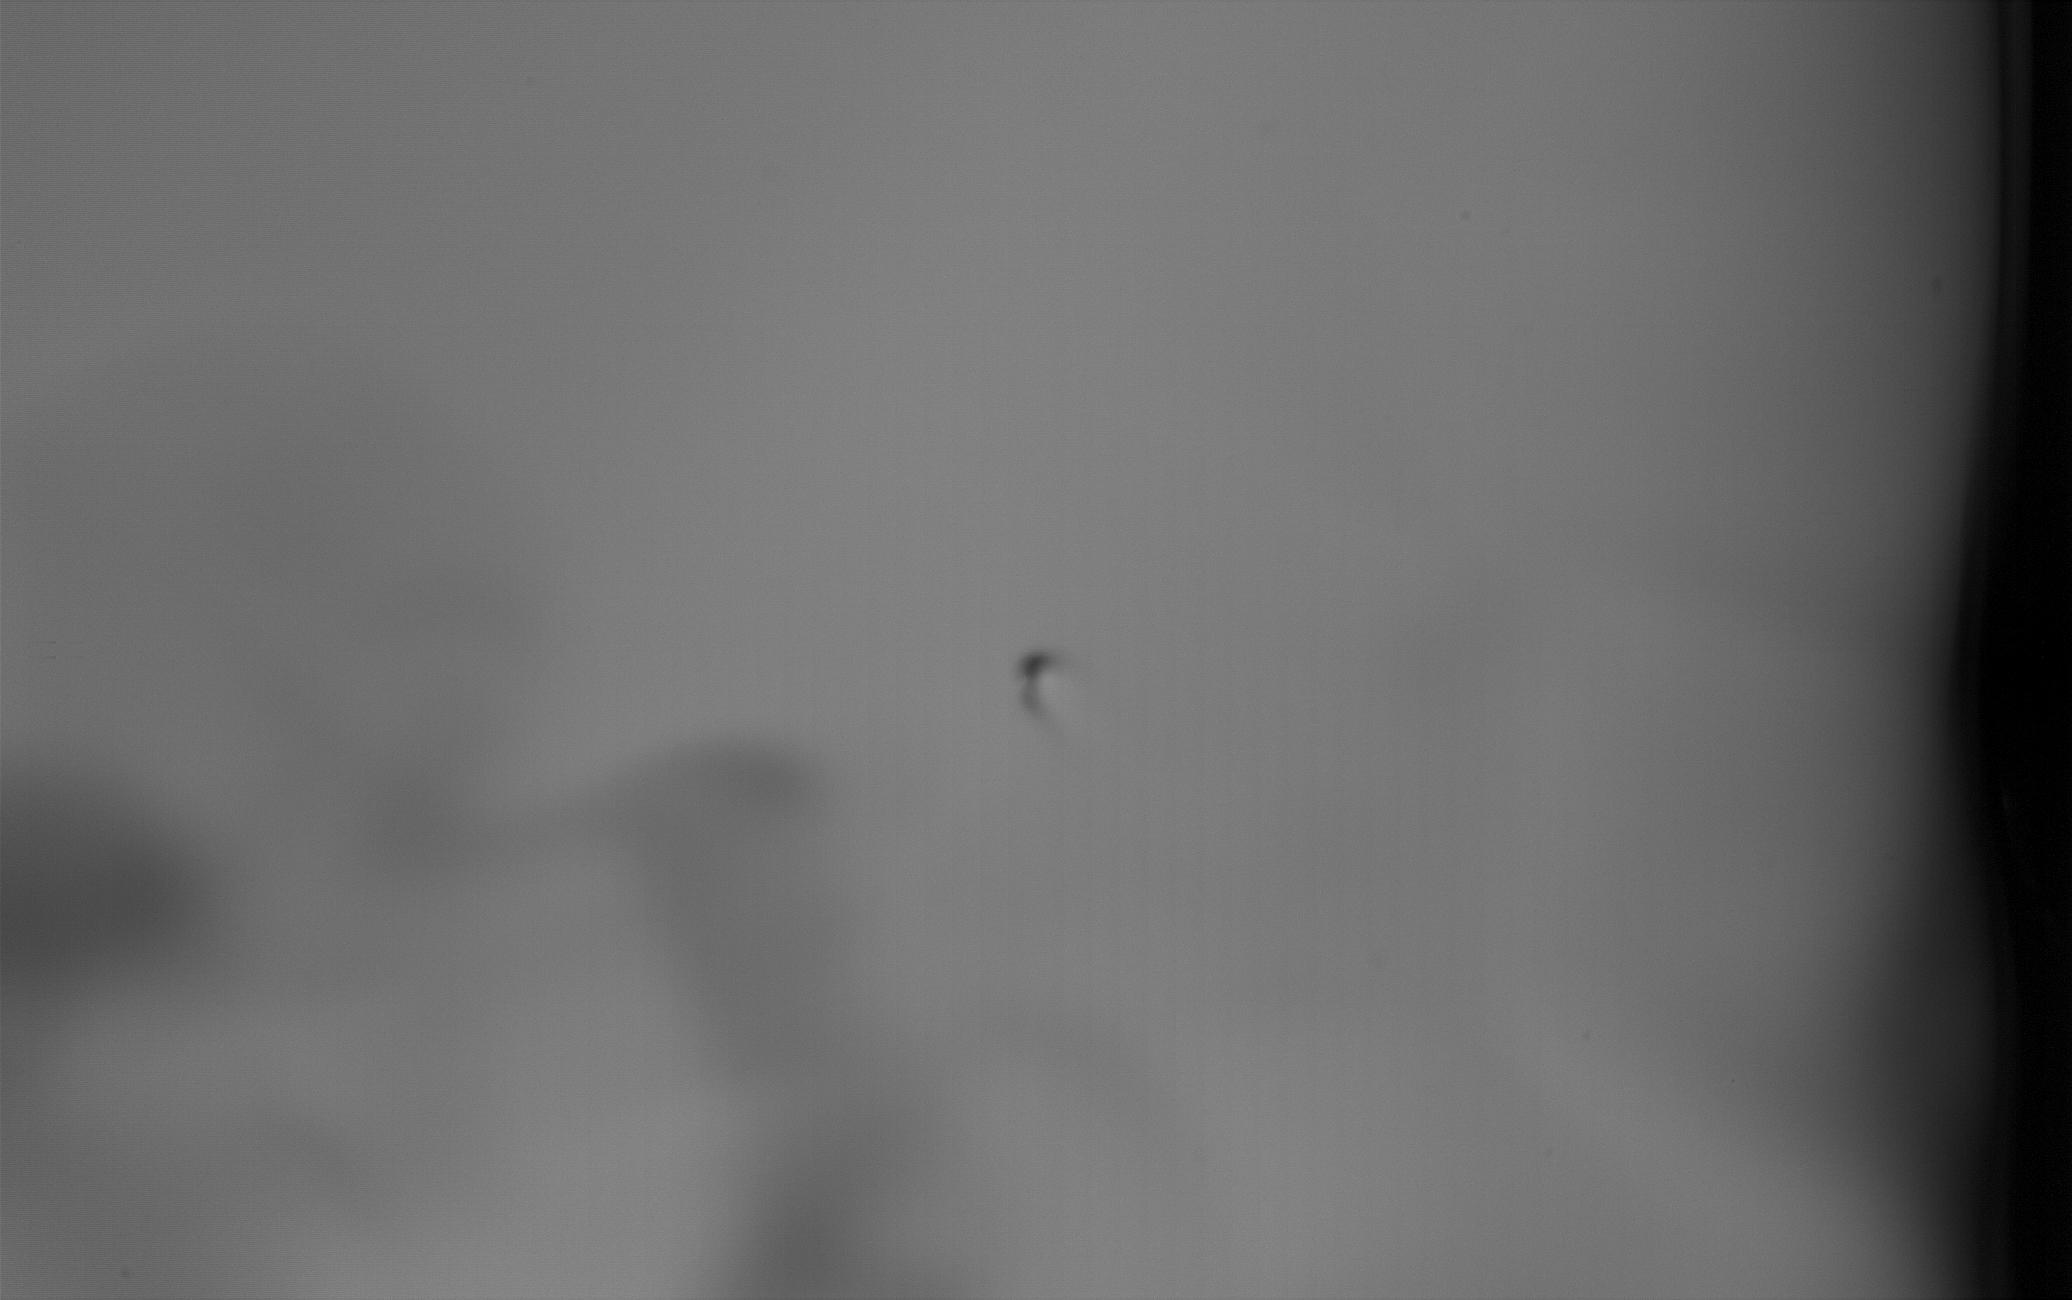DiffusiveMixing: (1014, 643, 1058, 732)
